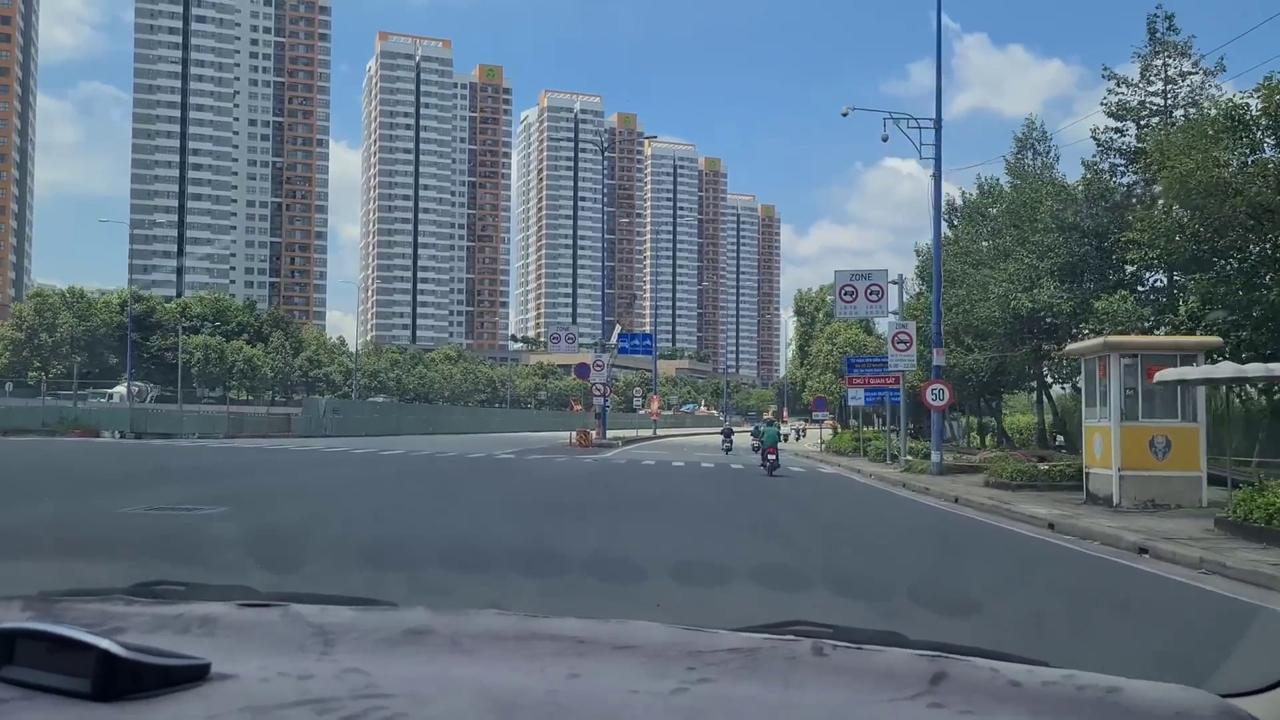Biển phụ: (634, 398, 642, 408)
Cấm cac phương tiện hoạt động trong khung giờ cố định: (833, 268, 890, 319), (886, 320, 918, 372), (546, 324, 580, 354), (591, 354, 608, 384)
Cấm dừng - Cấm đỗ: (810, 395, 830, 412), (574, 361, 591, 380)
Cấm xe máy: (590, 381, 606, 398)
Giới hạn tốc độ 50Km/h: (922, 378, 953, 411)
Giới hạn tốc độ 80Km/h: (632, 386, 644, 397)
Khác: (844, 356, 904, 406)
Làn đường cho từng xe: (616, 331, 654, 357)
